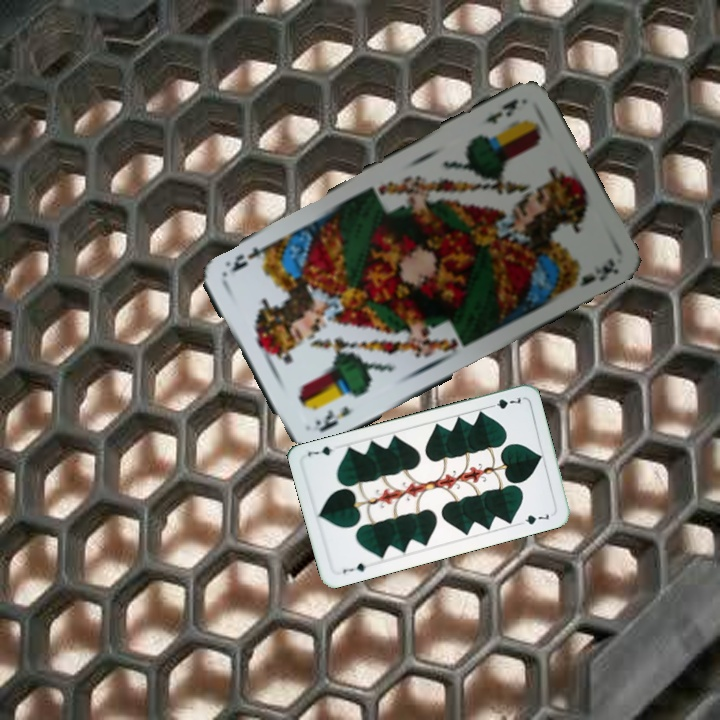EK: (311, 402, 353, 435), (481, 94, 521, 127)
G7: (484, 393, 523, 412), (339, 559, 368, 576)
